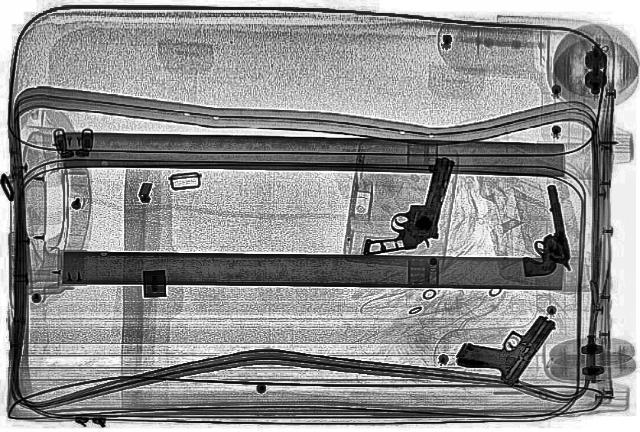Gun: (444, 304, 578, 392), (362, 152, 458, 260), (502, 183, 578, 282)
